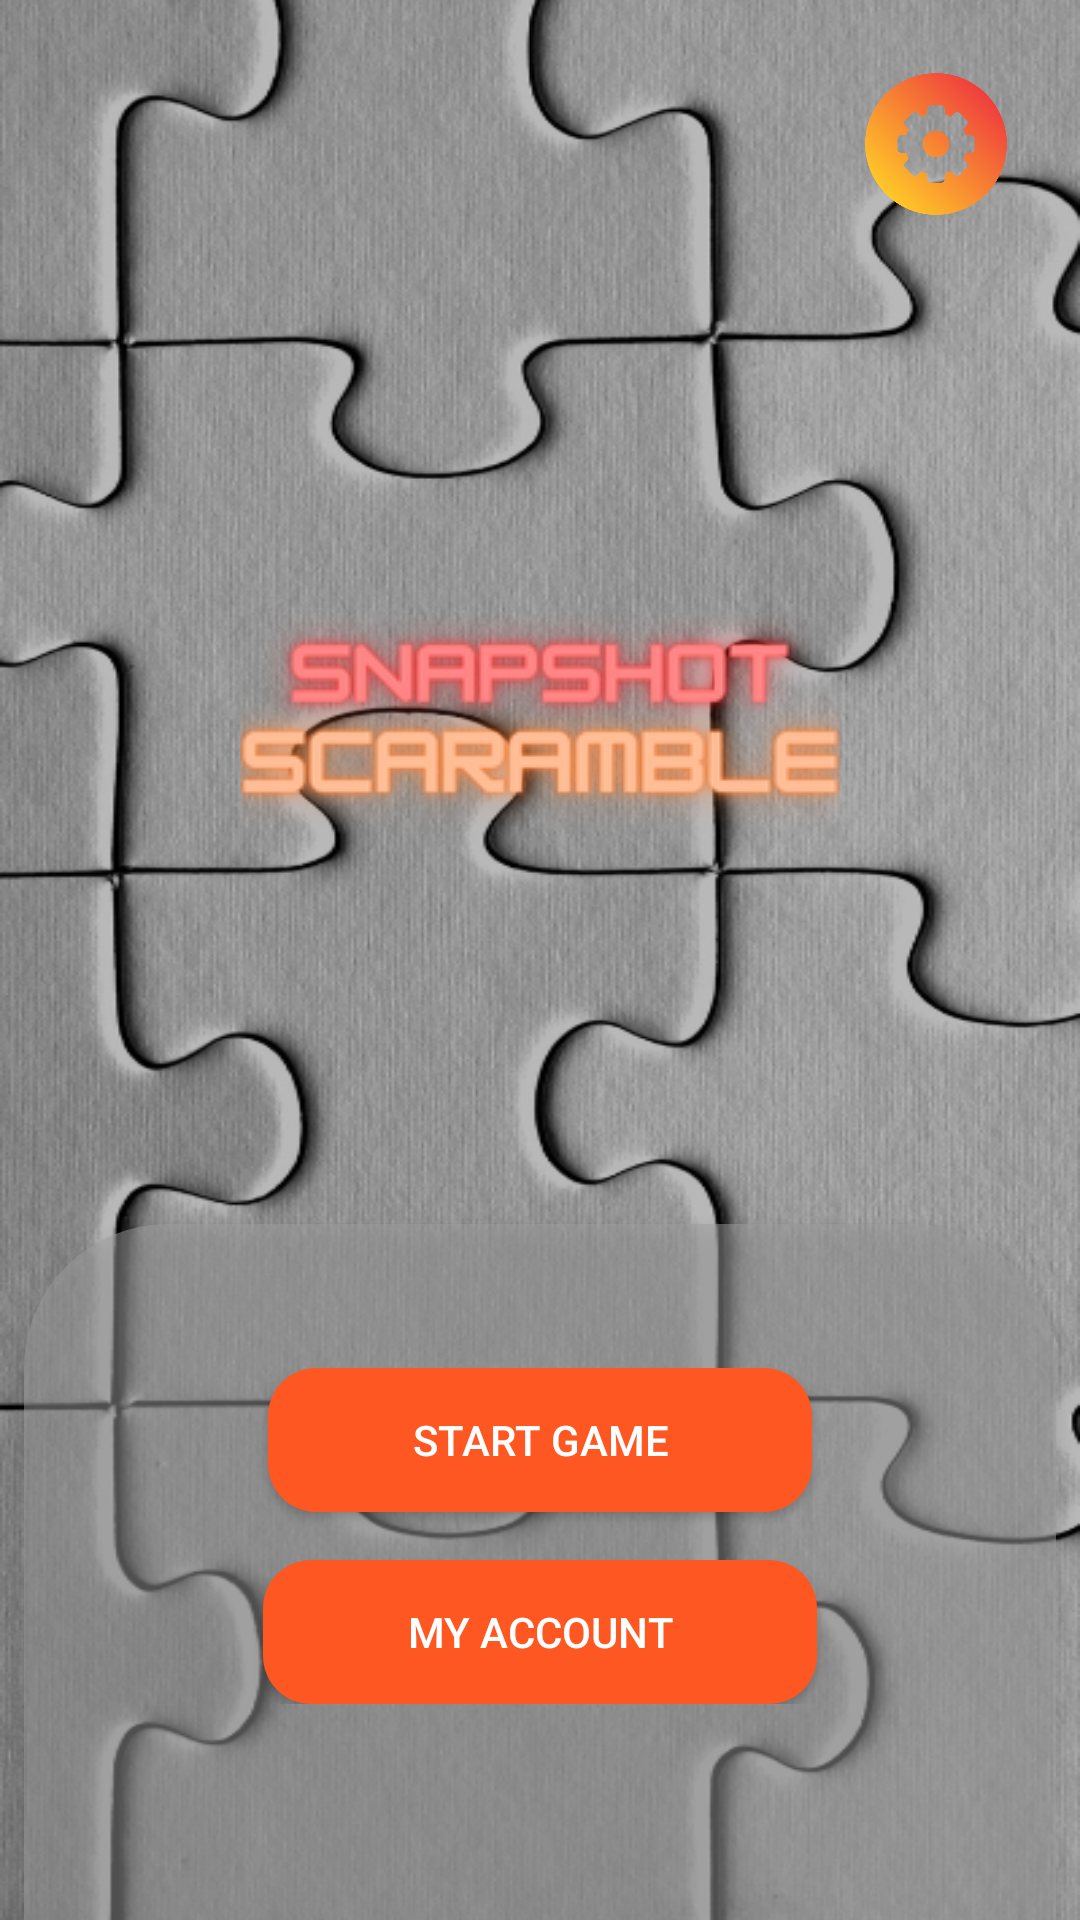

Icons on this 1080x1920 Android screen, each with the point to tap as point (x, y):
setting: point (936, 144)
